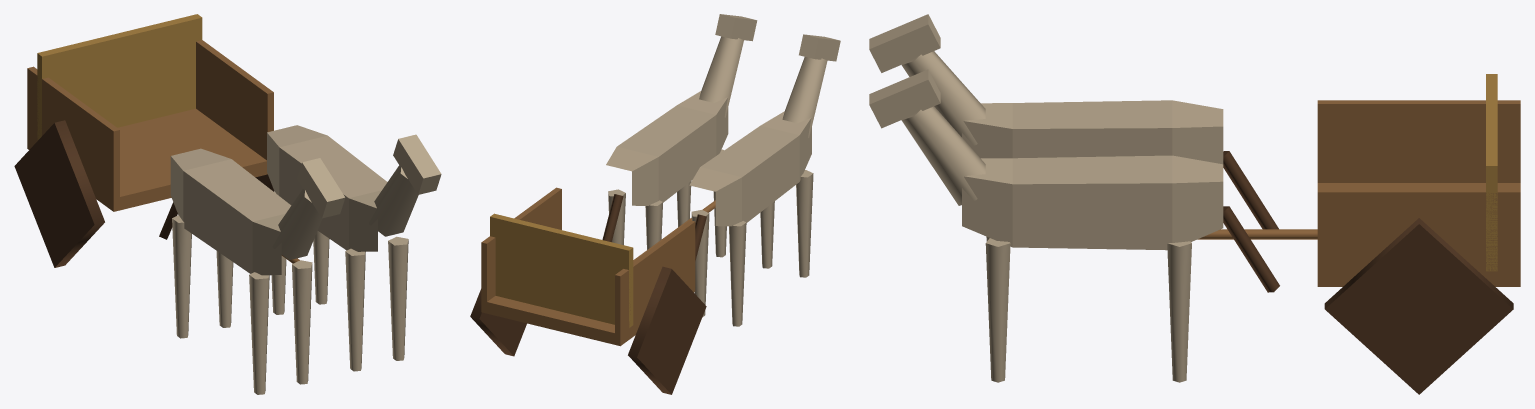
File: veh_ground_chariot_a02_lod2.glb
3 views of the same model, side by side, from view 1: azimuth 30°, elevation 25°; view 2: azimuth 150°, elevation 25°; view 3: azimuth 270°, elevation 25° (orthographic). The views are drawn at different scales.
Visible parts, largest first — view 1: body, animal_0, animal_1, wheel_0; view 2: body, animal_0, animal_1, wheel_0, wheel_1; view 3: animal_1, body, animal_0, wheel_1.
Boxes of the visible parts, <box> form: body: <box>27,14,299,263</box>; animal_0: <box>159,148,345,394</box>; animal_1: <box>266,125,441,371</box>; wheel_0: <box>14,120,104,267</box>; body: <box>481,187,715,346</box>; animal_0: <box>689,34,840,326</box>; animal_1: <box>602,14,757,257</box>; wheel_0: <box>628,266,706,394</box>; wheel_1: <box>470,289,526,356</box>; animal_1: <box>869,69,1279,382</box>; body: <box>1197,74,1520,286</box>; animal_0: <box>869,14,1278,229</box>; wheel_1: <box>1324,218,1513,394</box>.
Bounding box in the file's own units: 1.8 × 2.23 × 4.49.
